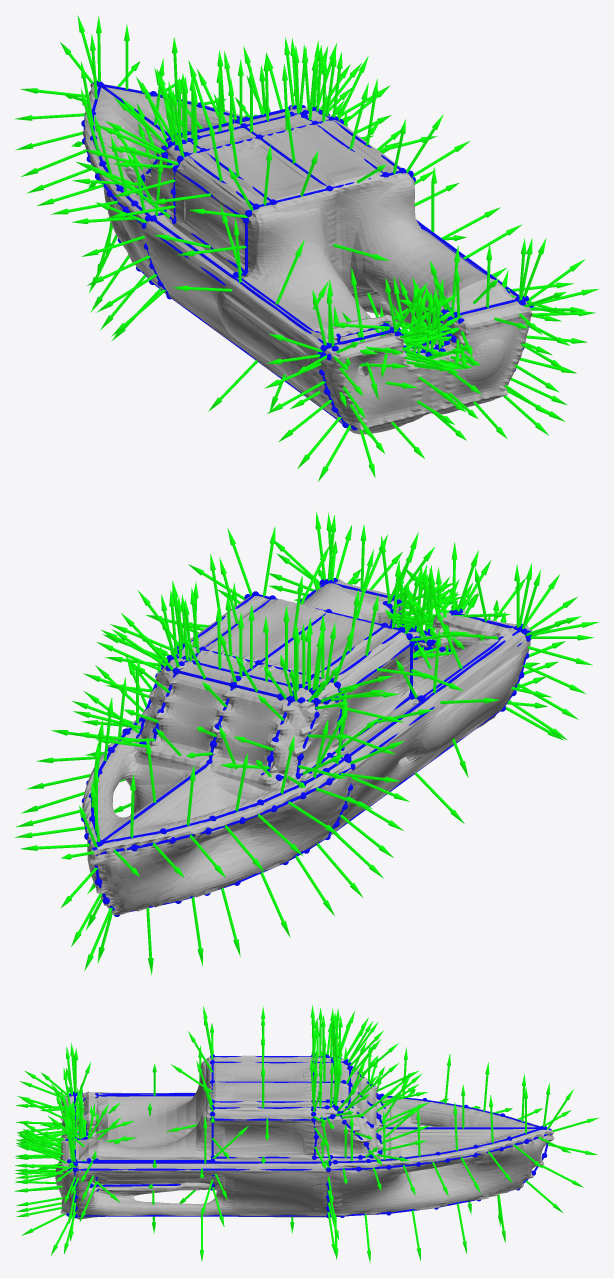
Rendered from flowrep_boat.gltf.
The picture shows the model from 3 angles, top to bottom: view 1: azimuth 30°, elevation 25°; view 2: azimuth 150°, elevation 25°; view 3: azimuth 270°, elevation 25°; orthographic projection. The views are drawn at different scales.
Bounding box in the file's own units: 0.5223 × 0.4205 × 1.11.
